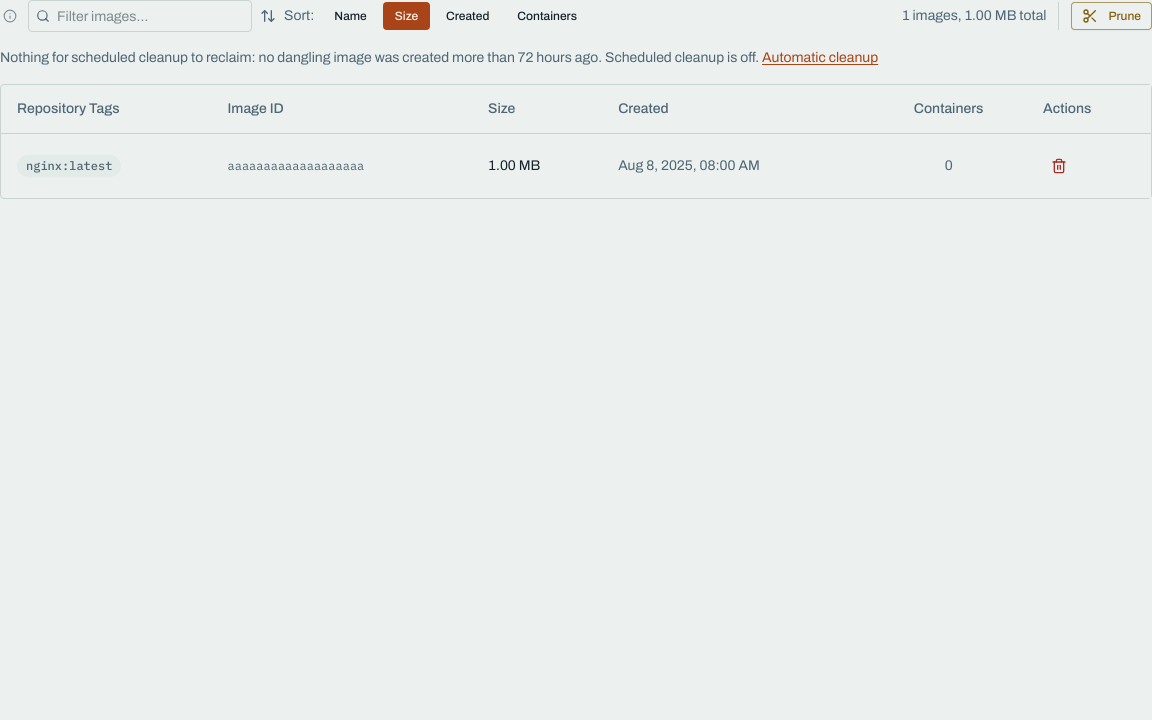
Test: ImagesTab — prune warns about stacks that would lose images › does not check or ask for typing when only dangling images are pruned
The width and height of the screenshot is (1152, 720).
Expected: the text "nginx:latest" is shown, top-left (17, 154), bottom-right (121, 176)
Click the button "Prune" at (1112, 16), box top-left (1072, 2), bottom-right (1151, 30)
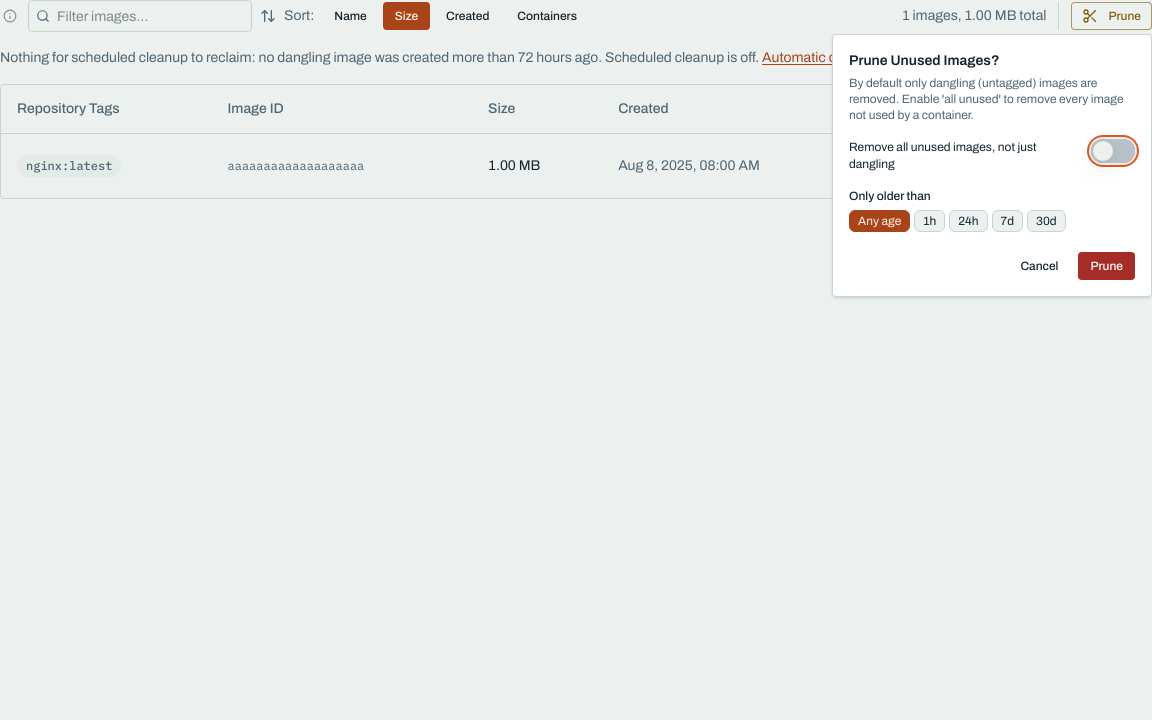
Result: the text "Prune Unused Images?" is shown at top-left (849, 53), bottom-right (1000, 68)
Result: the button "Prune" below "Only older than" is enabled at top-left (1078, 252), bottom-right (1135, 280)
